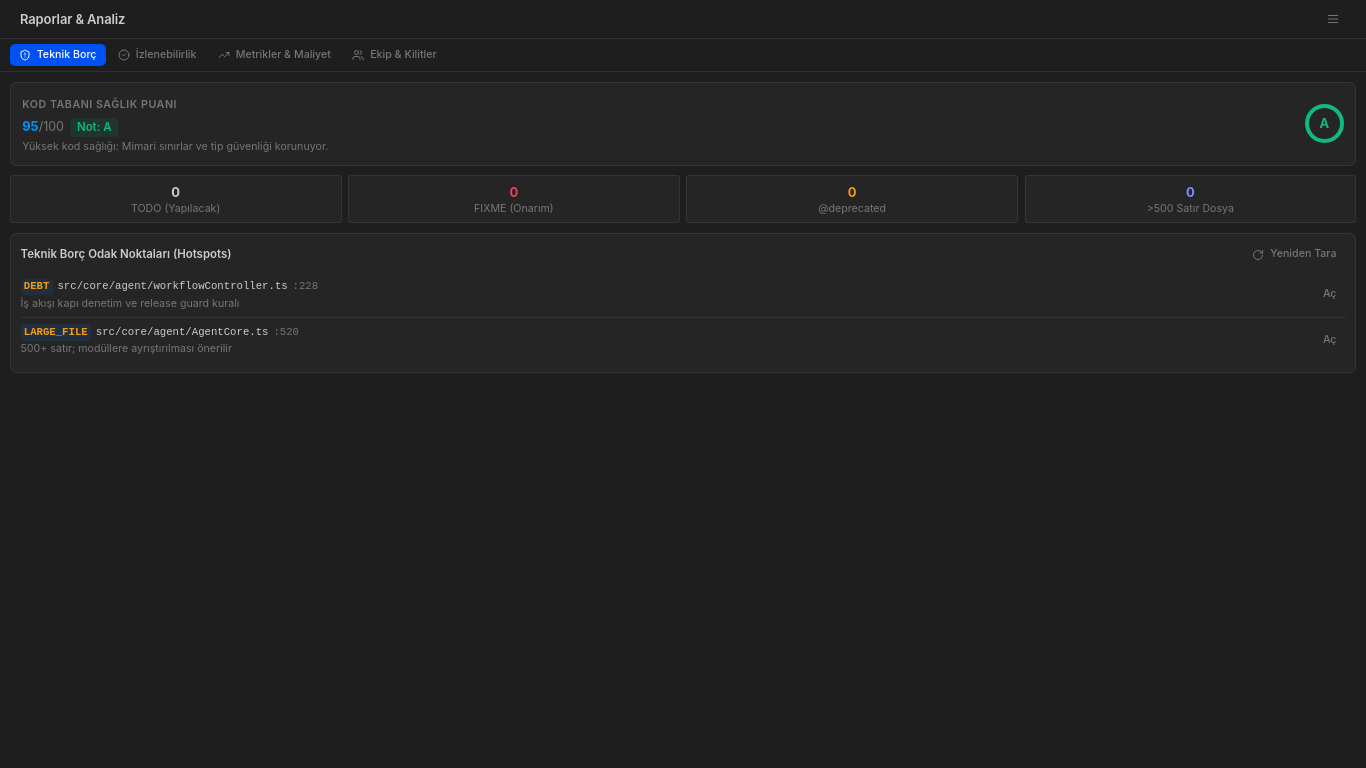
ReportsView: teknik borç ve izlenebilirlik panosu › sekmeler arasında geçiş yapabilir
This screenshot has width=1366, height=768.
Note: İzlenebilirlik sekmesine tıkla
Click the button "İzlenebilirlik".
click(157, 55)  # box [109,44,206,66]
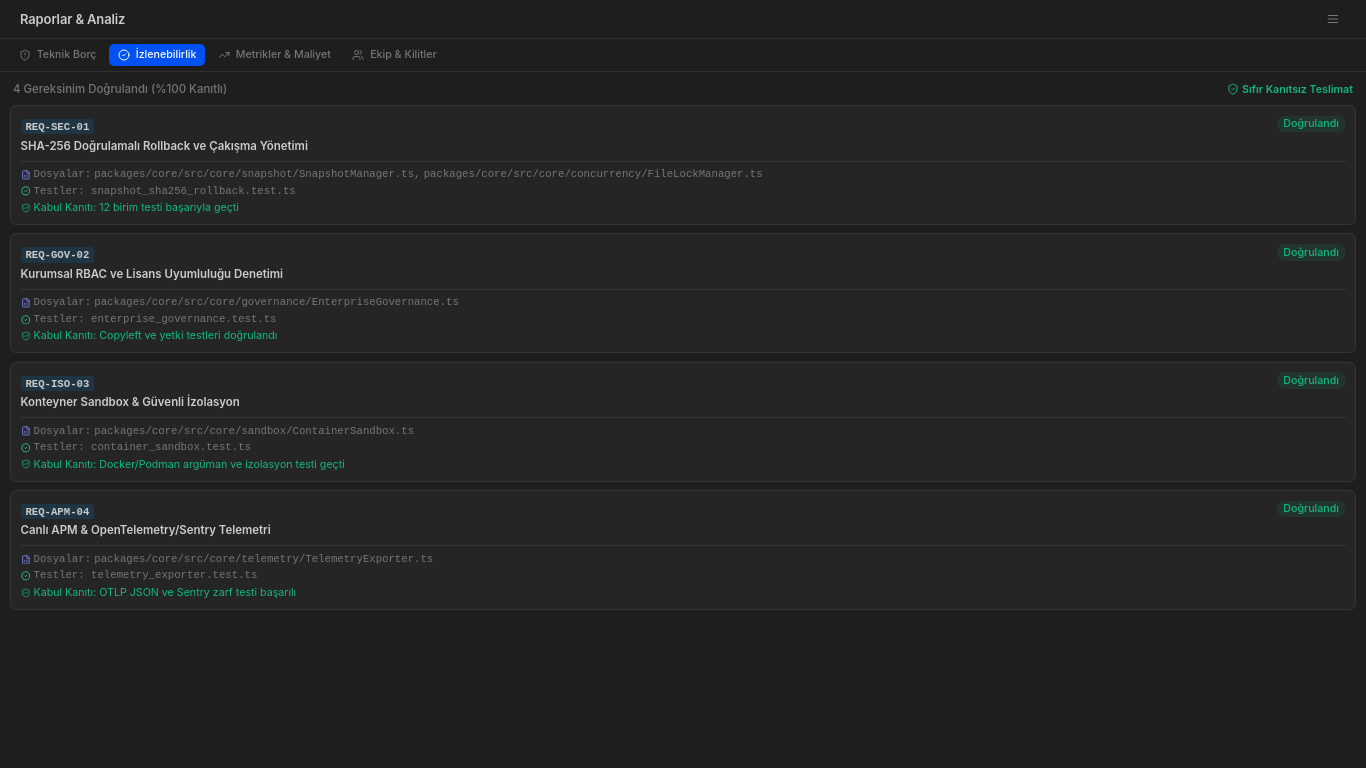
Now the text "Sıfır Kanıtsız Teslimat" is shown, box [1227,83,1353,96]
Now the text "REQ-SEC-01" is shown, box [20,119,94,134]
Note: Metrikler ve Maliyet sekmesine tıkla
Click the button "Metrikler & Maliyet".
click(274, 55)  # box [209,44,340,66]
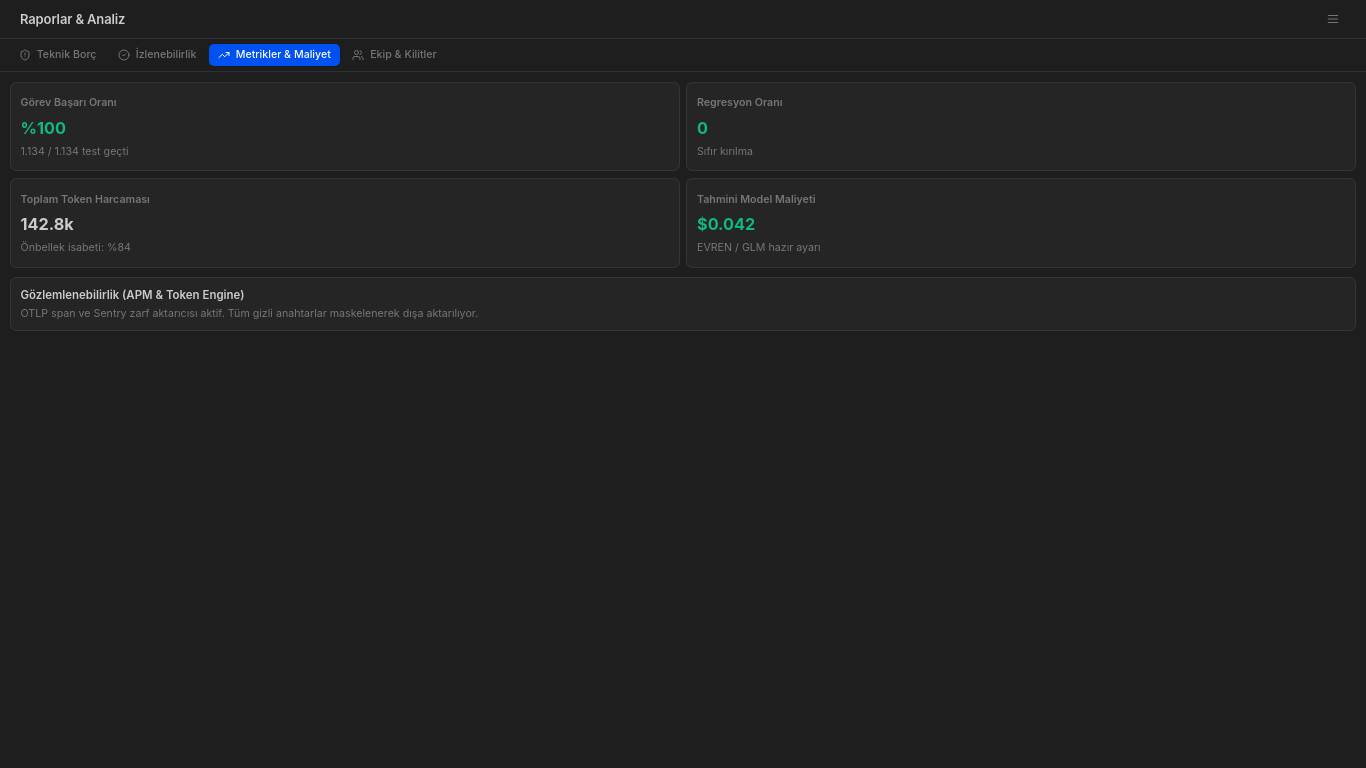
Now the text "%100" is shown, box [20,118,66,138]
Now the text "Görev Başarı Oranı" is shown, box [20,96,117,109]
Now the text "Tahmini Model Maliyeti" is shown, box [697,192,816,206]
Note: Ekip & Kilitler sekmesine tıkla
Click the button "Ekip & Kilitler".
click(394, 55)  # box [343,44,446,66]
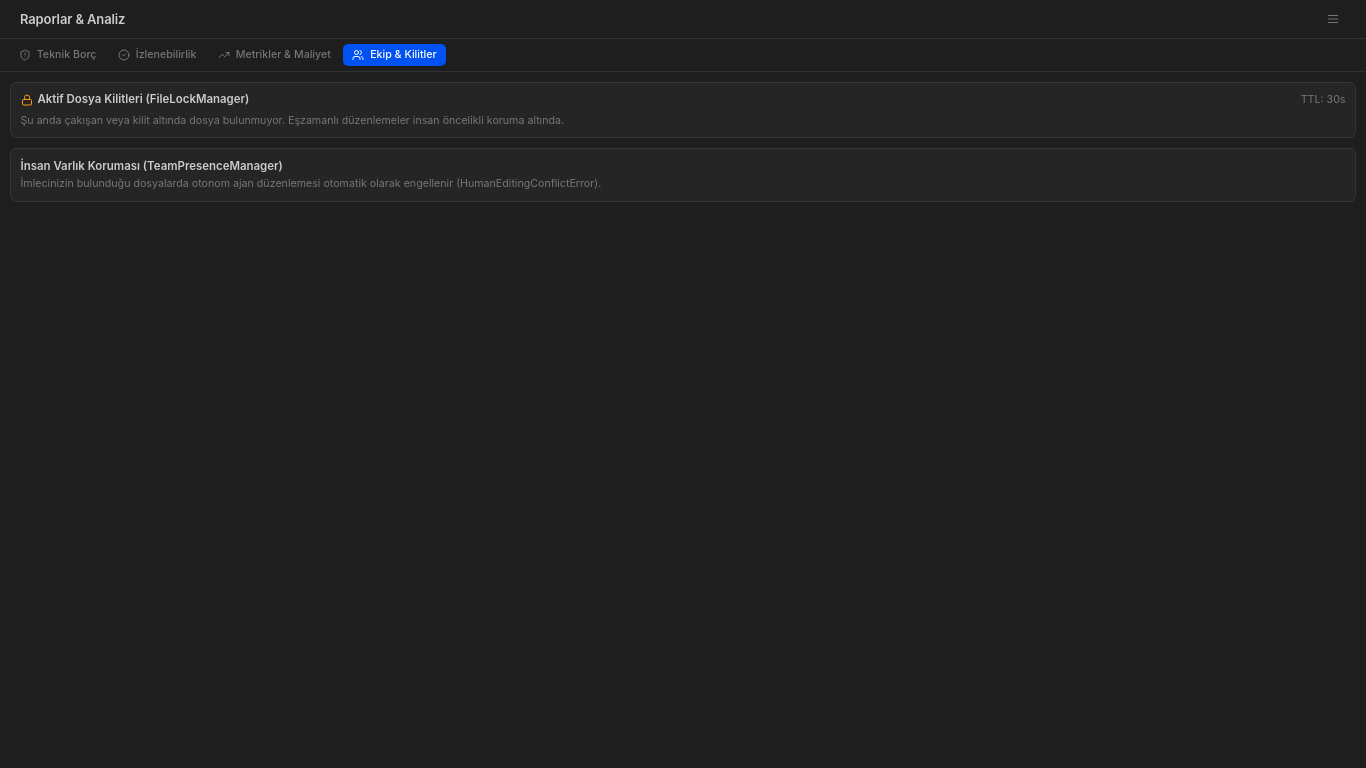
Now the heading "Aktif Dosya Kilitleri (FileLockManager)" is shown, box [20,92,249,108]
Now the heading "İnsan Varlık Koruması (TeamPresenceManager)" is shown, box [20,159,283,173]
